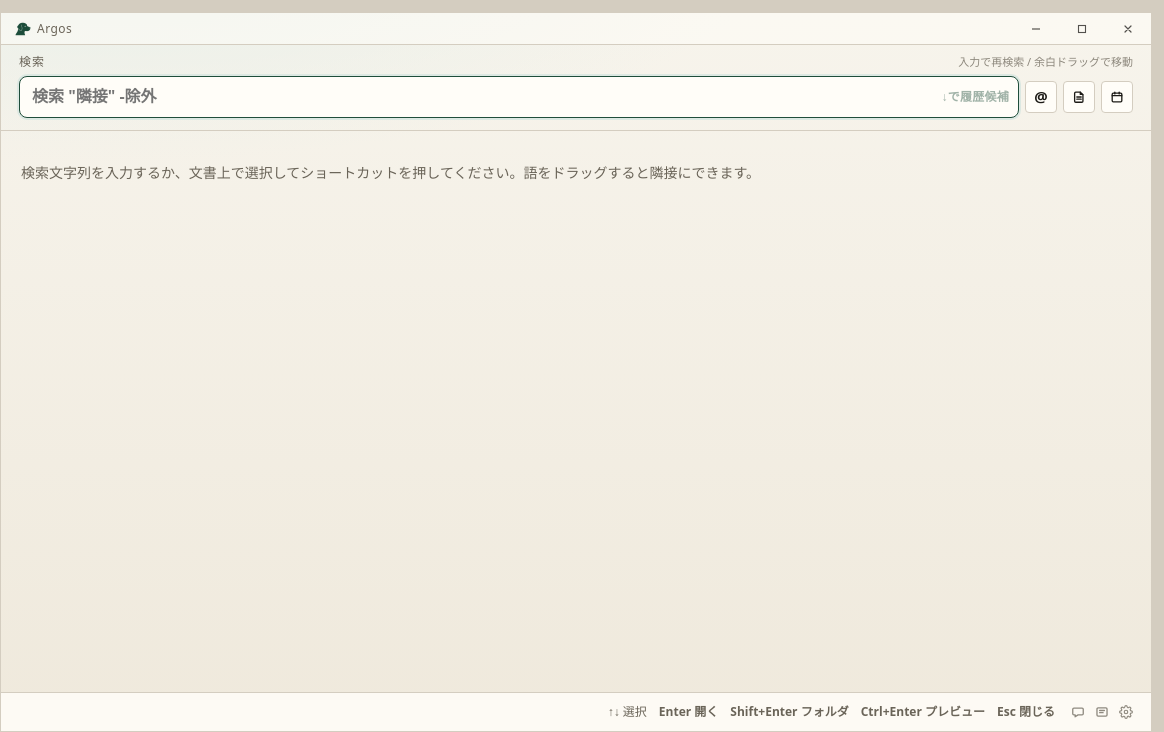
Scenario: Popup keyboard › does not auto-open suggestions, and Down opens them
In the field: (519, 97) [19,76,1019,118], type "売掛金"
Wait 500 ms
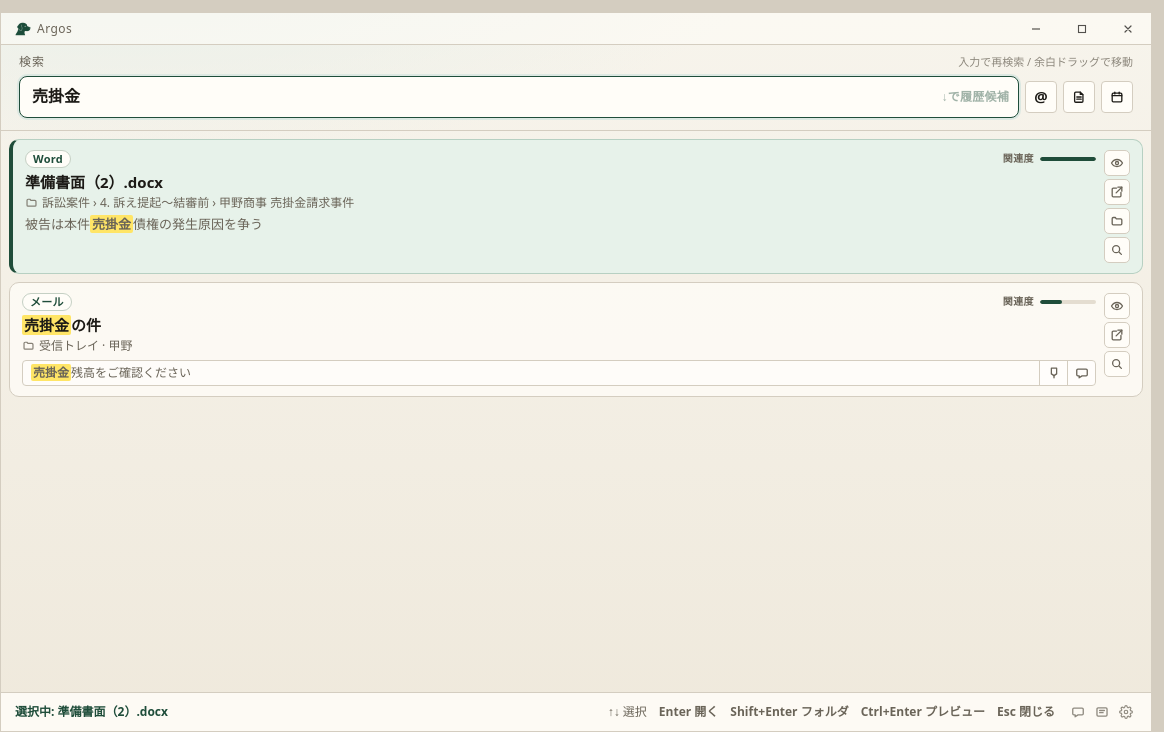
Expected: the text "↓で履歴候補" is shown, [942,88,1009,106]
Press ArrowDown
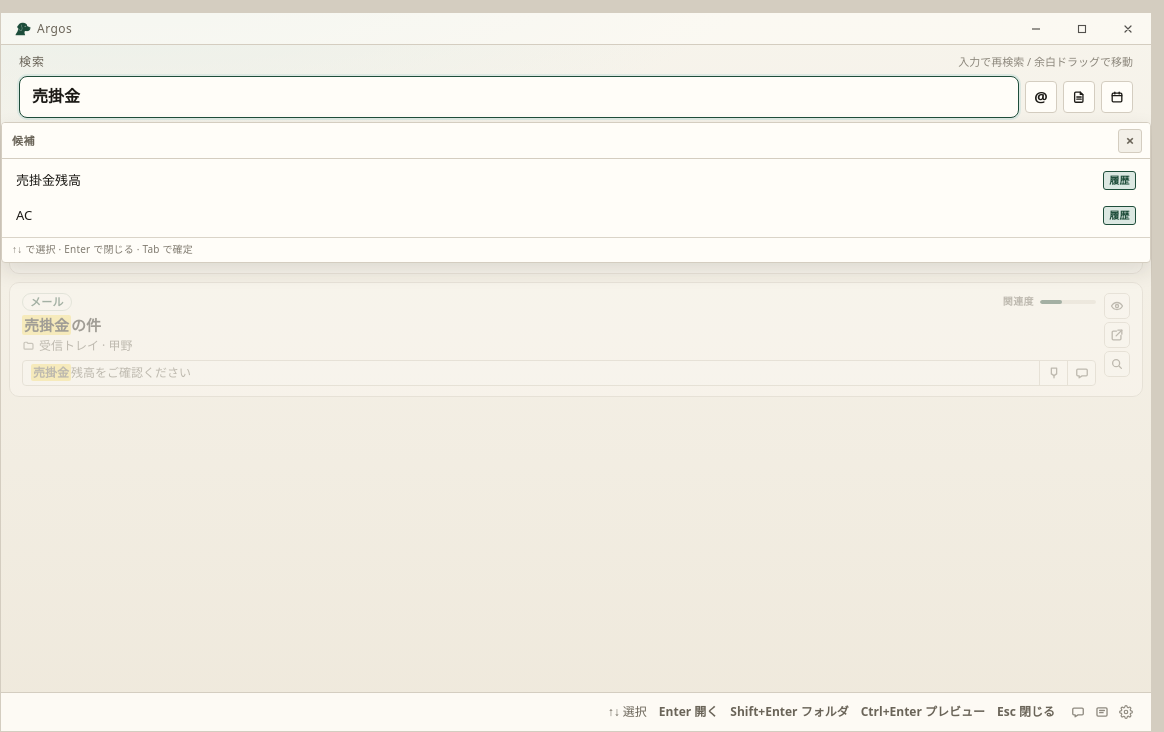
Result: the list named "検索候補" is shown at [1,122,1151,263]
Result: the text "↑↓ で選択 · Enter で閉じる · Tab で確定" is shown at [2,237,1150,262]
Result: the text "↓で履歴候補" is gone
